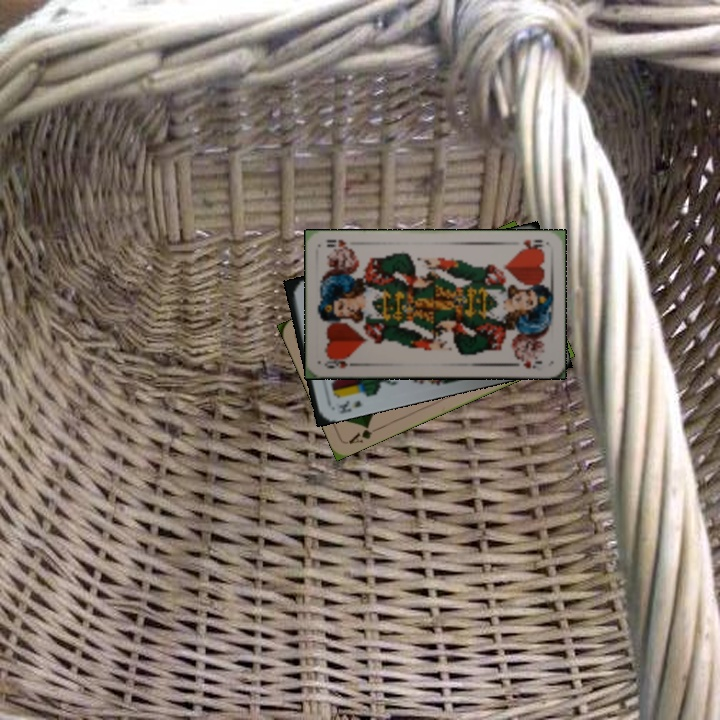EK: (335, 396, 364, 416)
GA: (344, 420, 383, 447)
HO: (320, 354, 360, 370), (514, 236, 546, 253)
